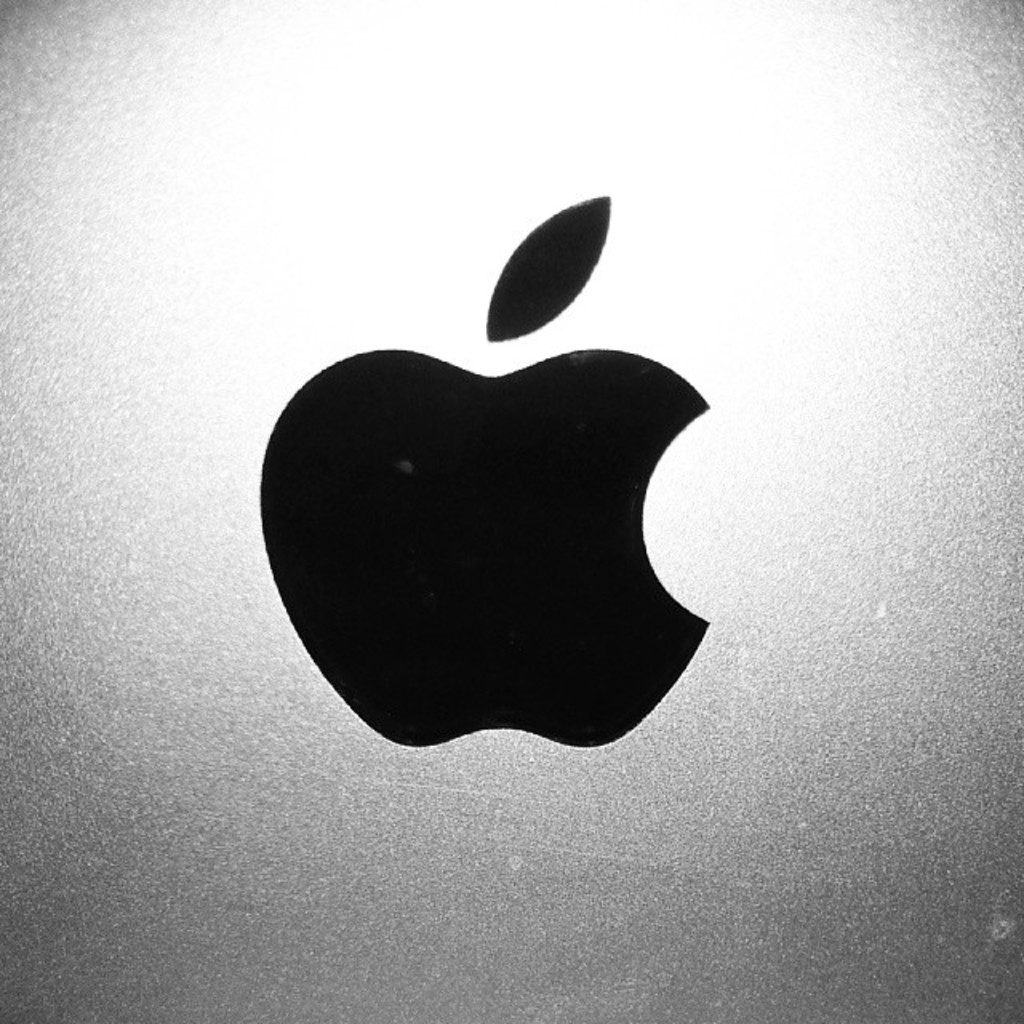Apple: (257, 195, 711, 747)
